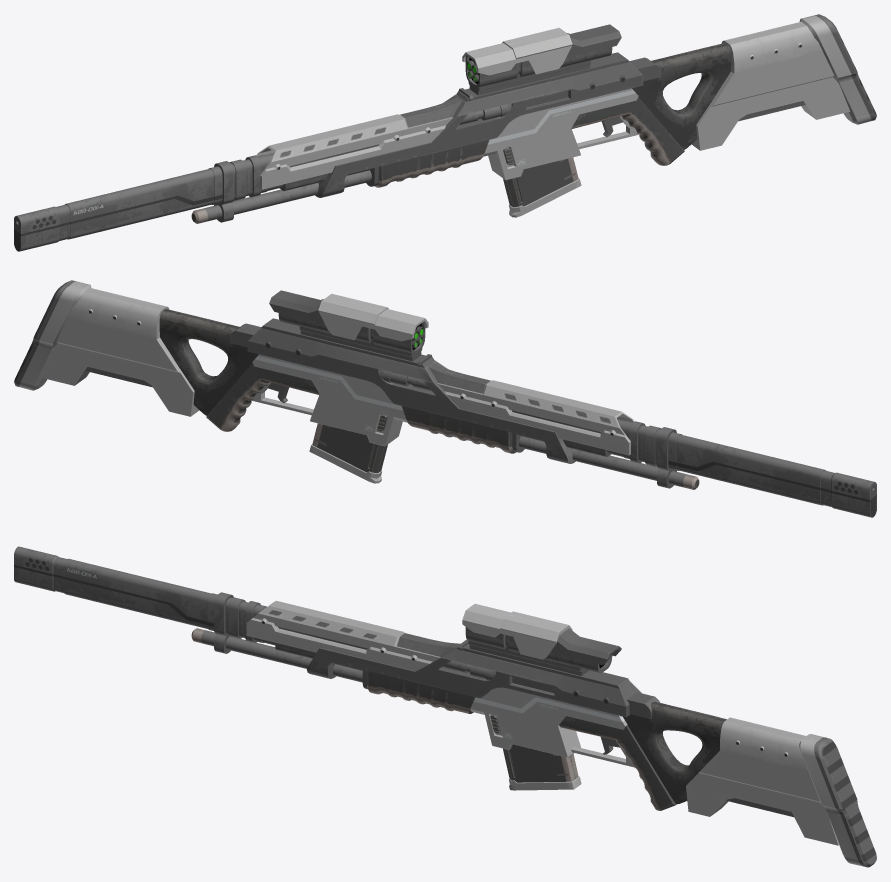
Rendered from Gun_Sniper.glb.
3 renders of one model, top to bottom at view 1: azimuth 30°, elevation 25°; view 2: azimuth 150°, elevation 25°; view 3: azimuth 330°, elevation 25°, orthographic.
Visible parts, largest first — view 1: Gun_Sniper; view 2: Gun_Sniper; view 3: Gun_Sniper.
Boxes of the visible parts, x1=… form: Gun_Sniper: x1=14, y1=14, x2=876, y2=251; Gun_Sniper: x1=14, y1=280, x2=876, y2=517; Gun_Sniper: x1=14, y1=546, x2=876, y2=867.
Bounding box in the file's own units: 1.72 × 0.3298 × 0.0591.
1 material, 1 textured.
